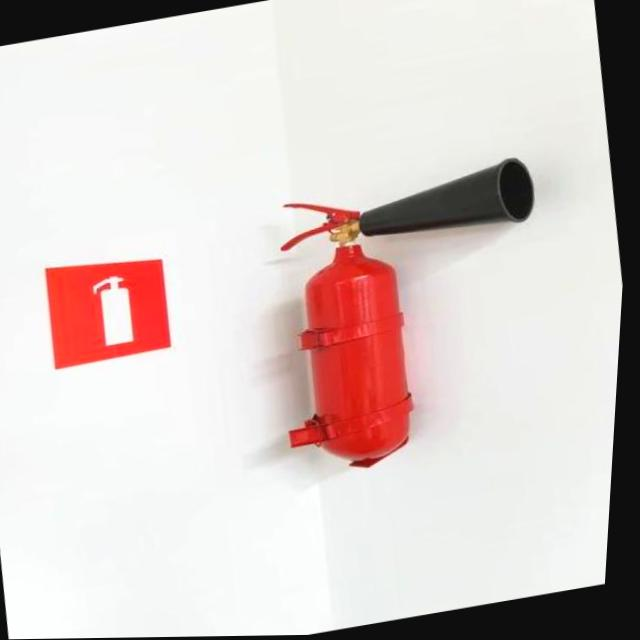FireExtinguisher: (251, 149, 584, 481)
